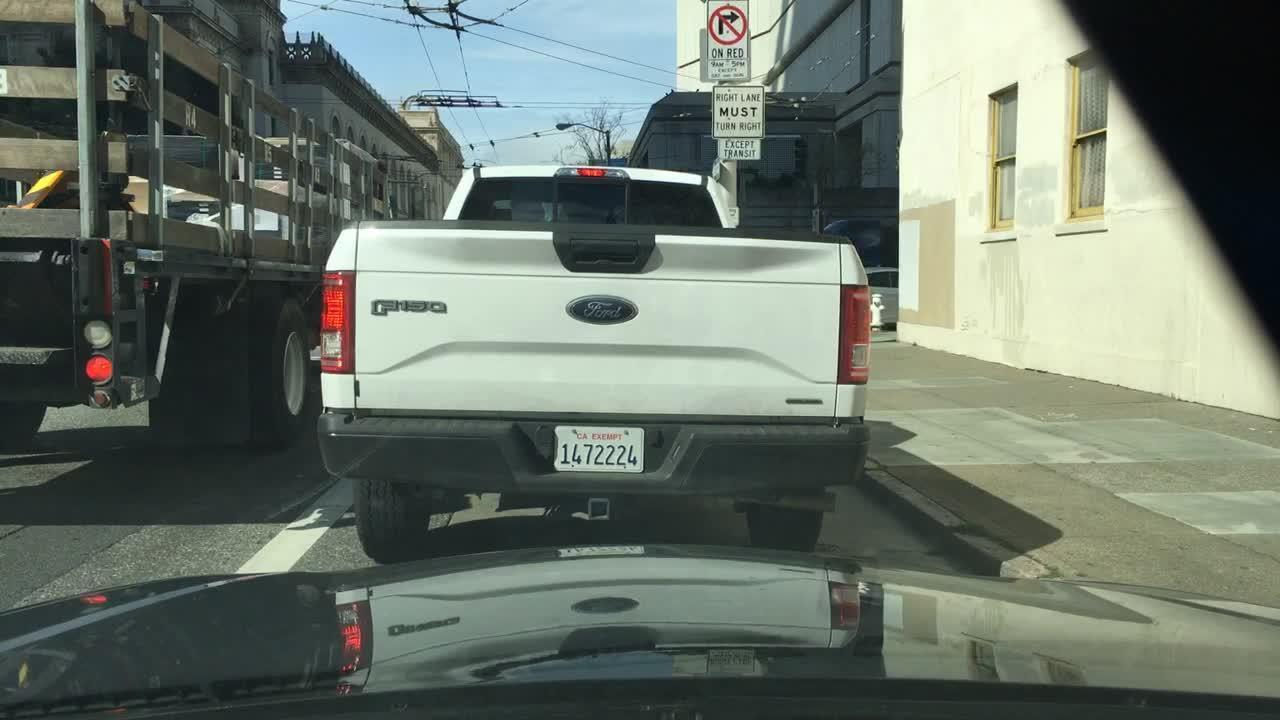ford: (558, 286, 668, 332)
